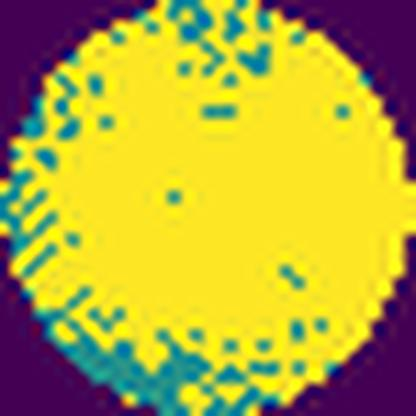Near-full: (21, 0, 416, 355)
